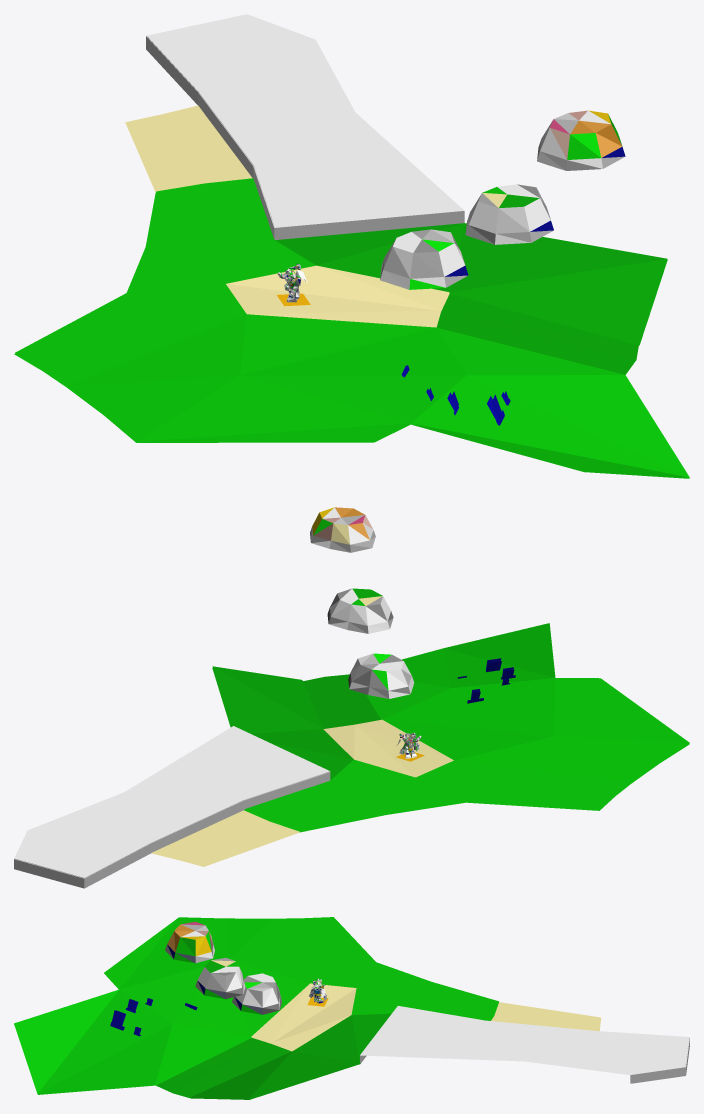
File: Camera.fbx
The picture shows the model from 3 angles, top to bottom: view 1: azimuth 30°, elevation 25°; view 2: azimuth 150°, elevation 25°; view 3: azimuth 270°, elevation 25°; orthographic projection. The views are drawn at different scales.
Visible parts, largest first — view 1: obj147.002, obj69.001, obj146.002, obj145.002, obj131.002, obj133.002, obj132.002, obj44, obj102.001, Camera High, obj1, obj1.001 (+2 smaller); view 2: obj147.002, obj69.001, obj131.002, obj145.002, obj146.002, obj133.002, obj102.001, obj132.002, obj25, obj44, Camera High, obj1.001 (+1 smaller); view 3: obj146.002, obj69.001, obj147.002, obj145.002, obj131.002, obj133.002, obj132.002, obj44, obj102.001, obj1, Camera High, obj1.001 (+2 smaller).
Part boxes in pixels (x1,y1,x2,y2): obj147.002: (68,314,466,441); obj69.001: (147,14,464,227); obj146.002: (411,327,689,477); obj145.002: (275,223,667,344); obj131.002: (127,178,315,292); obj133.002: (15,284,246,386); obj132.002: (226,265,449,327); obj44: (436,294,638,374); obj102.001: (126,105,252,191); Camera High: (537,110,625,170); obj1: (465,184,553,244); obj1.001: (380,229,468,289); obj147.002: (382,678,689,782); obj69.001: (14,726,329,877); obj131.002: (244,759,465,830); obj145.002: (212,666,353,779); obj146.002: (367,623,555,719); obj133.002: (416,760,630,809); obj102.001: (152,810,299,866); obj132.002: (323,719,453,777); obj25: (14,772,330,888); obj44: (303,674,380,728); Camera High: (310,507,375,552); obj1.001: (348,653,414,698); obj146.002: (14,989,250,1093); obj69.001: (360,1006,689,1074); obj147.002: (104,917,309,1036); obj145.002: (190,1013,391,1098); obj131.002: (351,962,498,1020); obj133.002: (273,917,375,987); obj132.002: (251,983,356,1050); obj44: (156,1038,291,1097); obj102.001: (491,1002,600,1030); obj1: (195,957,245,999); Camera High: (165,922,214,963); obj1.001: (232,973,281,1014).
Size of the model in its own units: 230 by 98.99 by 360.
